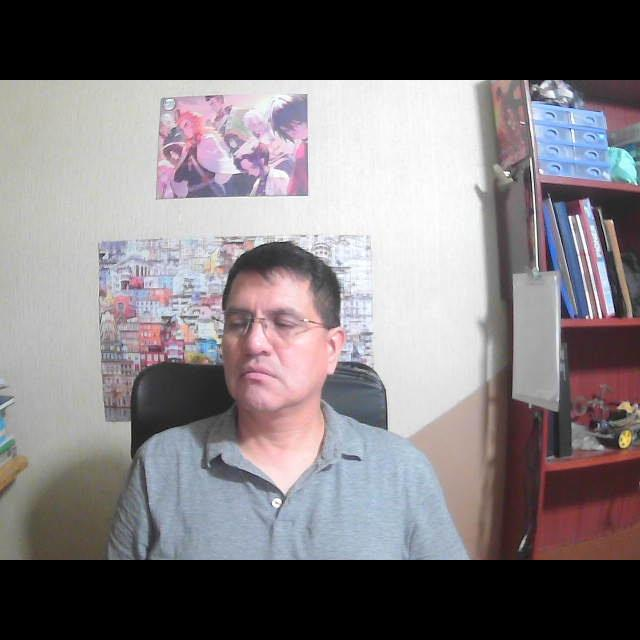cesar: (202, 228, 358, 452)
